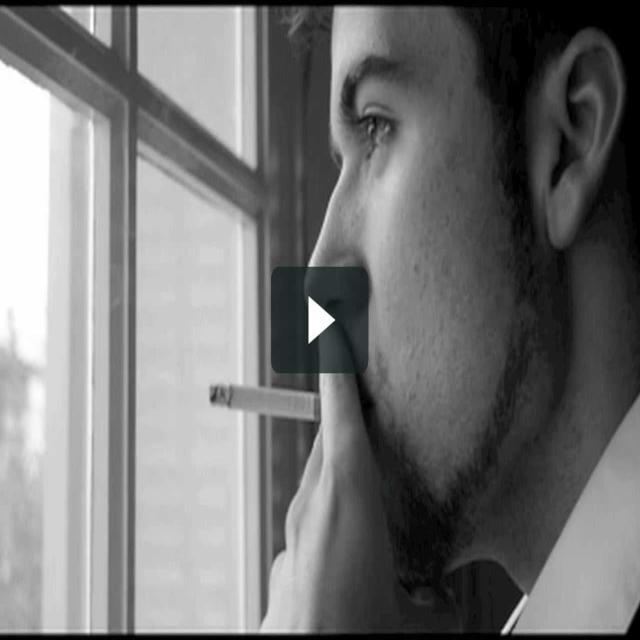Smooking: (202, 368, 322, 452)
